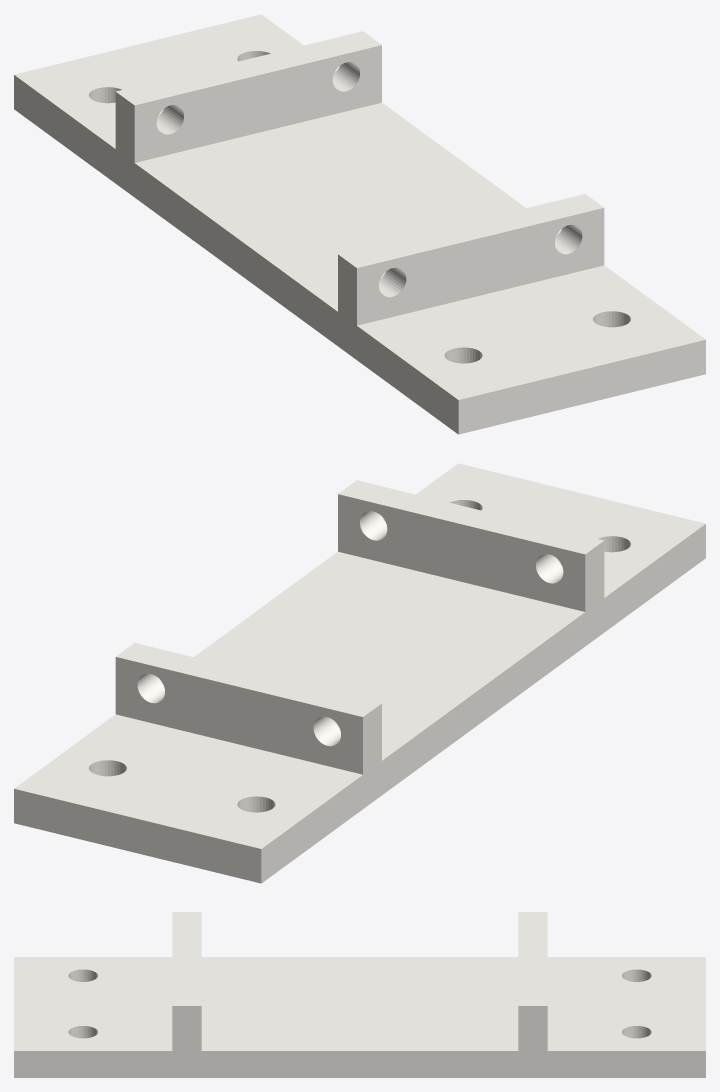
Rendered from base_link_dynamixel_plate.dae.
3 renders of one model, top to bottom at view 1: azimuth 30°, elevation 25°; view 2: azimuth 150°, elevation 25°; view 3: azimuth 270°, elevation 25°, orthographic. The views are drawn at different scales.
Visible parts, largest first — view 1: base_link_-_LRF_set-1_dynamixel_stay-1; view 2: base_link_-_LRF_set-1_dynamixel_stay-1; view 3: base_link_-_LRF_set-1_dynamixel_stay-1.
Boxes of the visible parts, <box> form: base_link_-_LRF_set-1_dynamixel_stay-1: <box>14,14,705,434</box>; base_link_-_LRF_set-1_dynamixel_stay-1: <box>14,463,705,883</box>; base_link_-_LRF_set-1_dynamixel_stay-1: <box>14,912,705,1077</box>.
Bounding box in the file's own units: 0.0225 × 0.07 × 0.008.
Materials: 1 (1 with a texture image).
